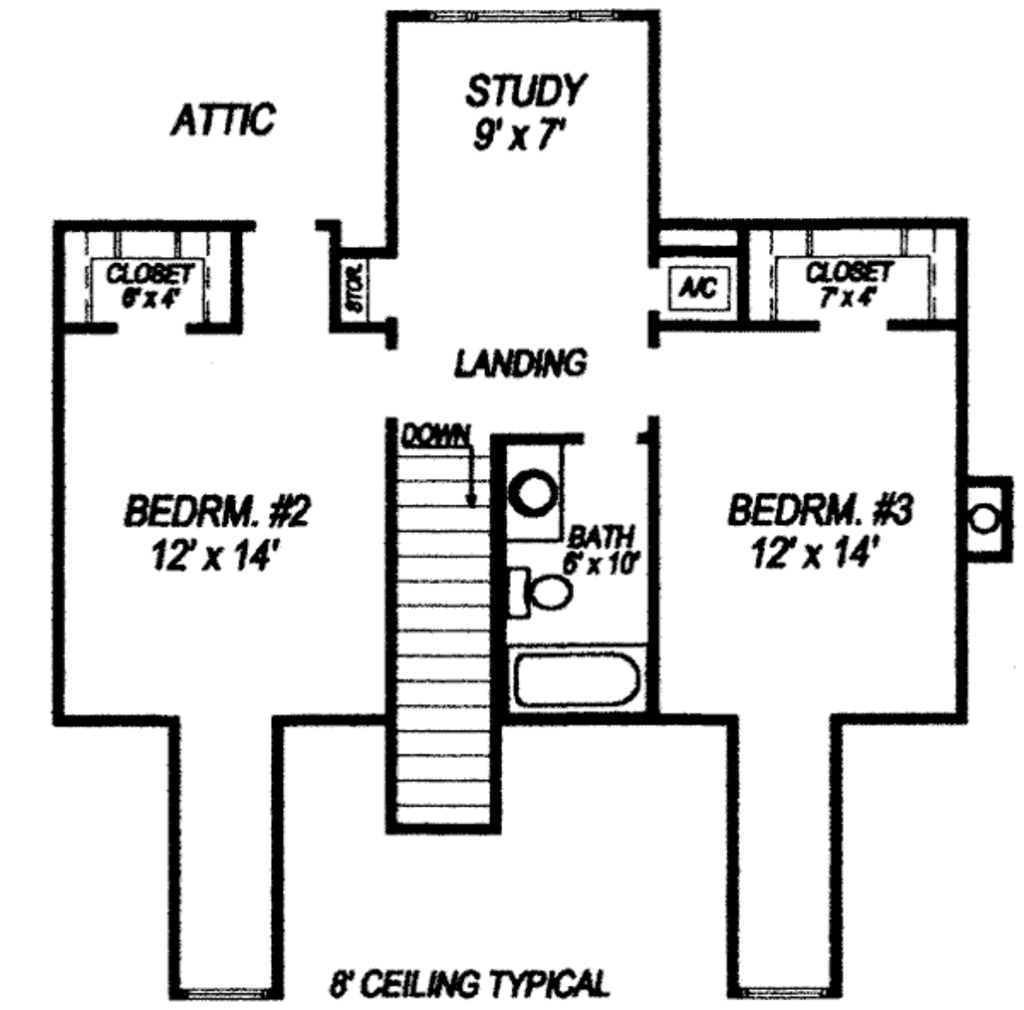large_sink: (500, 563, 580, 625)
small_sink: (504, 432, 566, 549)
stairs: (387, 410, 505, 840)
tub: (499, 642, 652, 715)
